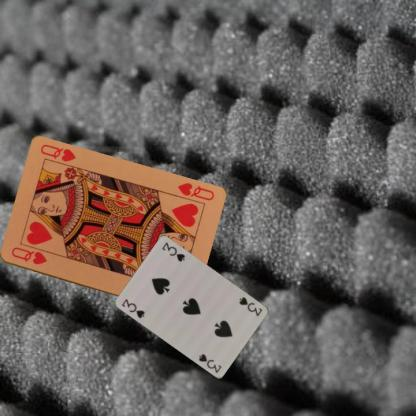3s: (236, 294, 264, 318), (119, 296, 146, 319)
Qh: (174, 180, 216, 202), (8, 244, 48, 266)
